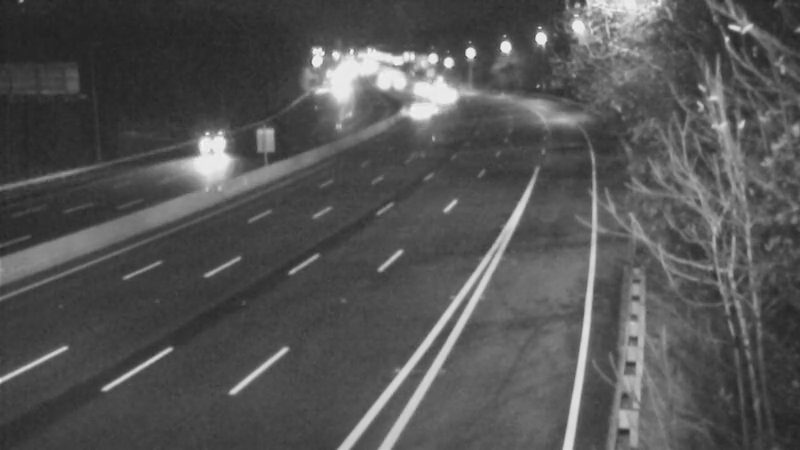vehicle: (395, 61, 445, 111), (394, 80, 444, 130), (178, 121, 228, 171)
